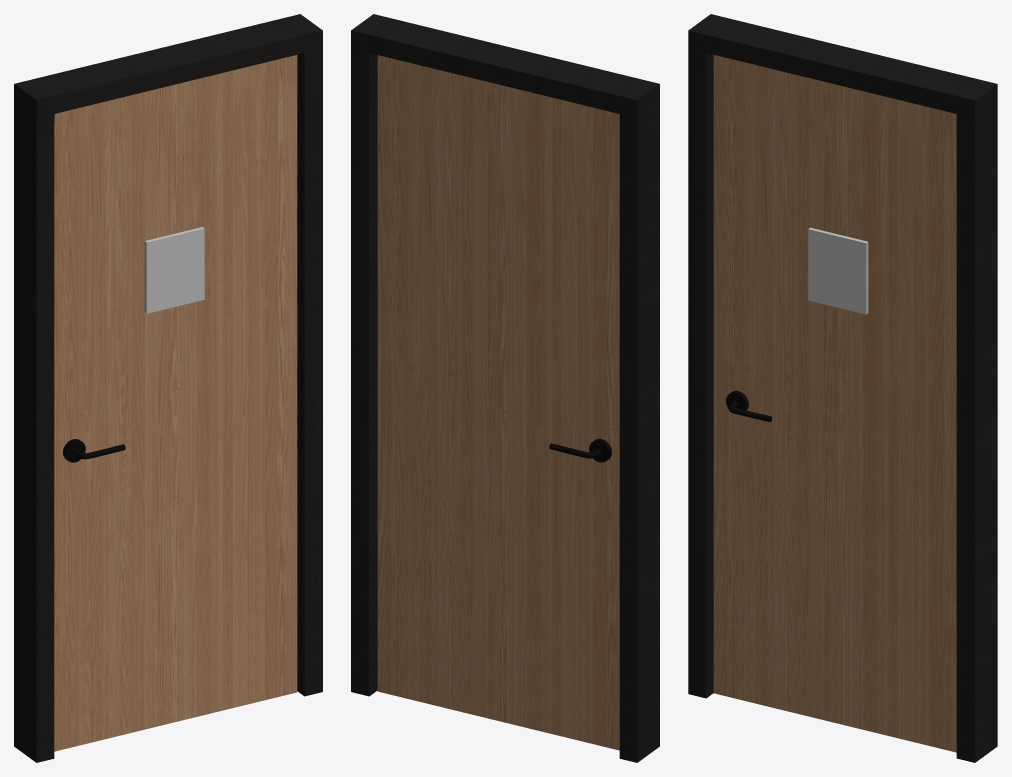
The model's file is Door 2.FBX.
3 renders of one model, left to right at view 1: azimuth 30°, elevation 25°; view 2: azimuth 150°, elevation 25°; view 3: azimuth 330°, elevation 25°, orthographic.
Parts seen in each view (by area): view 1: Door 2, door frame 2; view 2: Door 2, door frame 2; view 3: Door 2, door frame 2.
Part boxes in pixels (x1=…): Door 2: x1=54, y1=55, x2=297, y2=751; door frame 2: x1=14, y1=14, x2=322, y2=762; Door 2: x1=377, y1=55, x2=619, y2=750; door frame 2: x1=351, y1=14, x2=659, y2=762; Door 2: x1=713, y1=55, x2=956, y2=752; door frame 2: x1=688, y1=14, x2=997, y2=762.
Size of the model in its own units: 933 by 2064 by 170.
